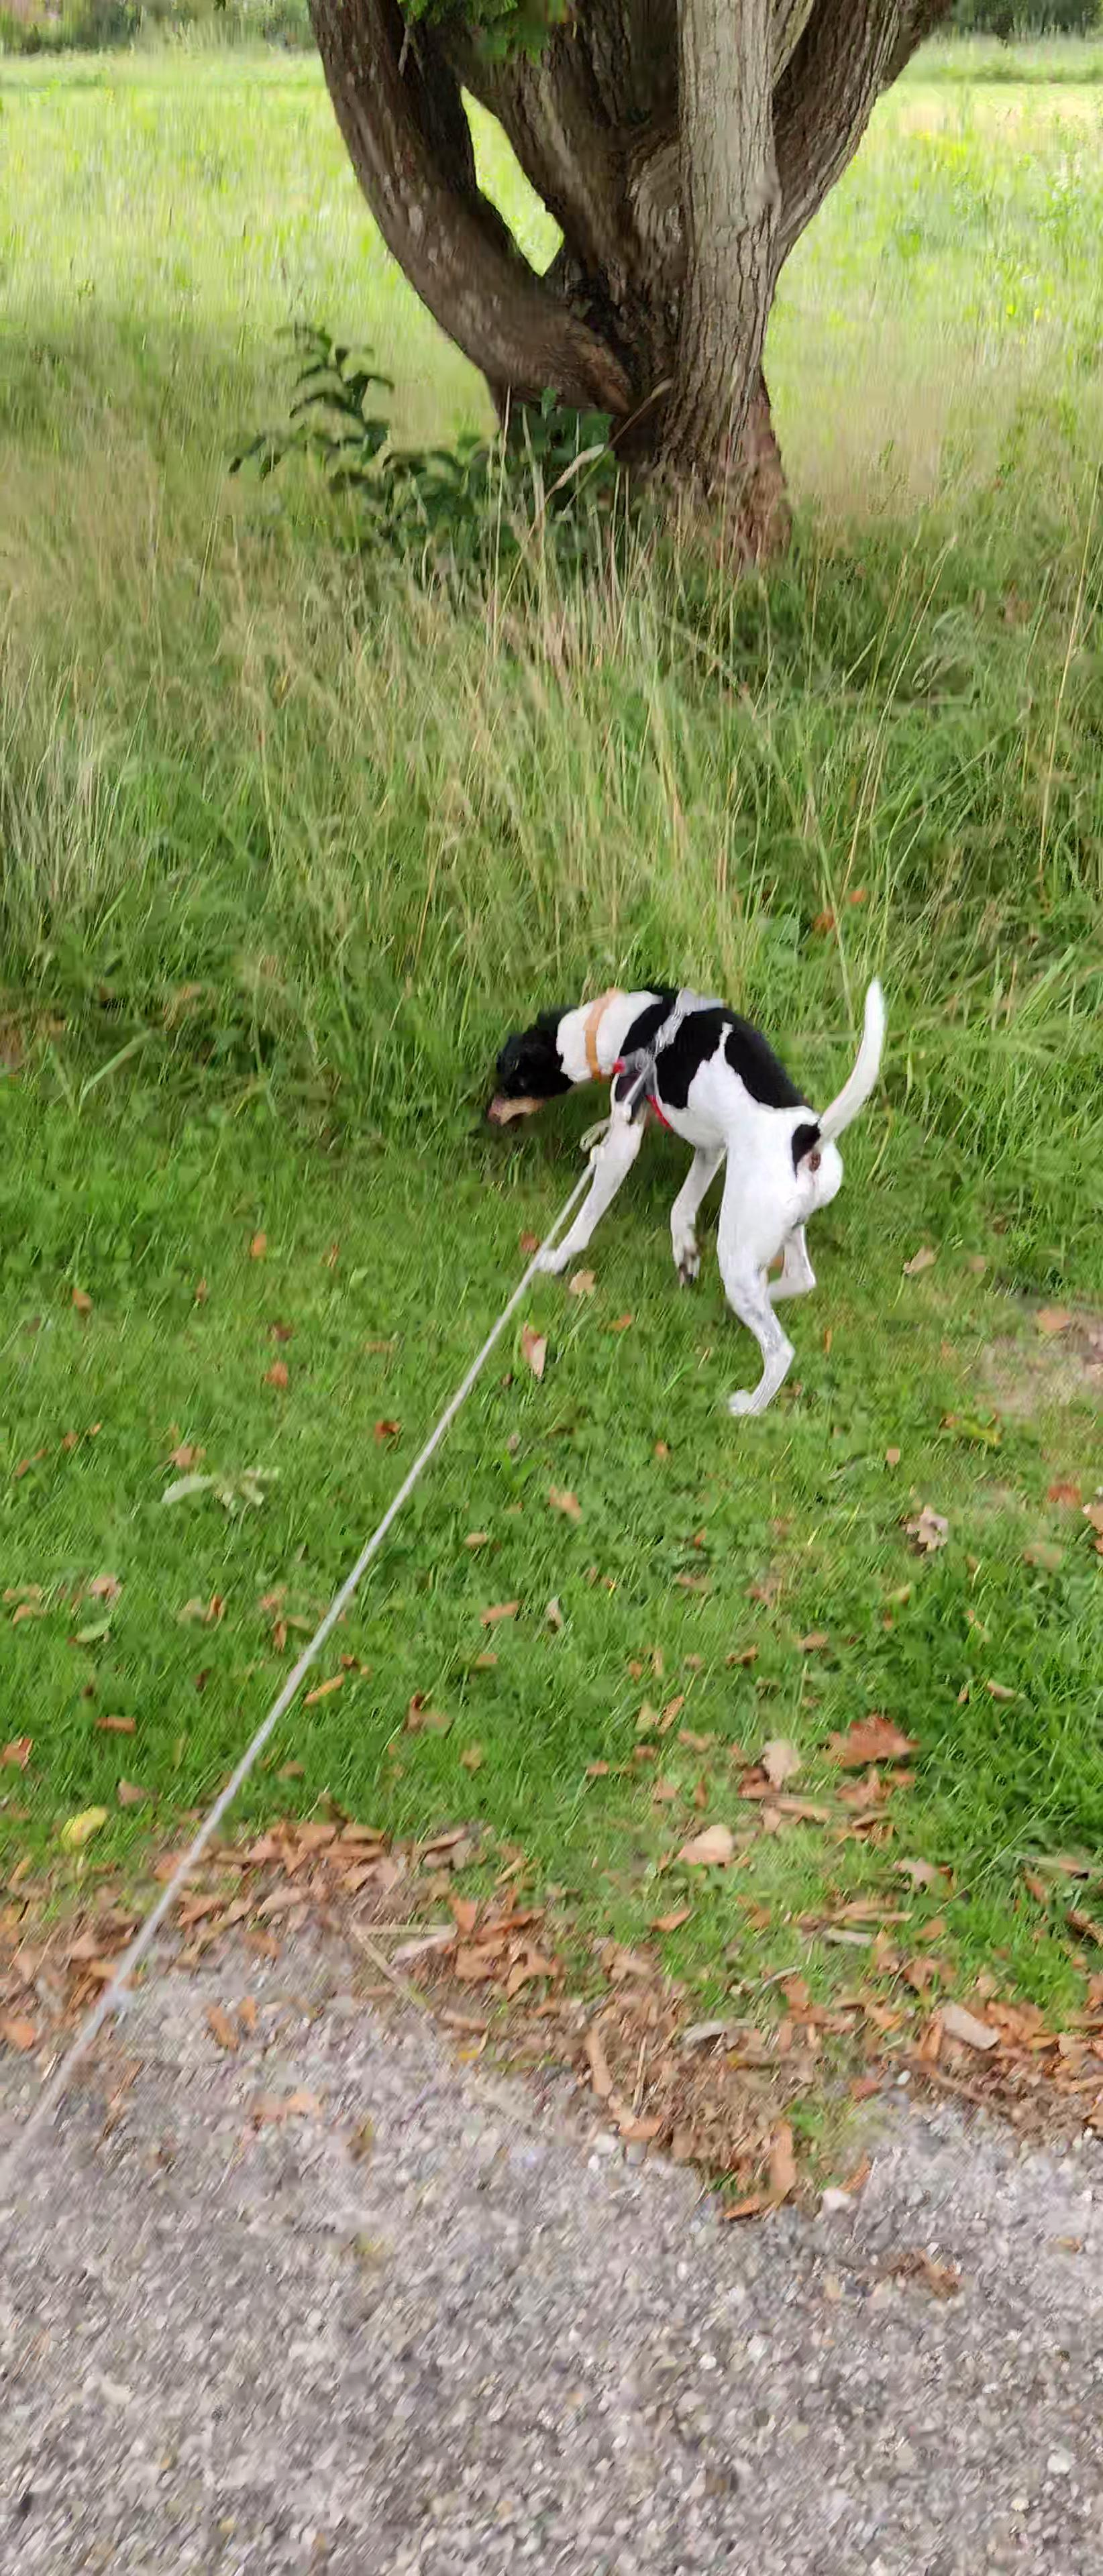Dog: (482, 969, 889, 1419)
